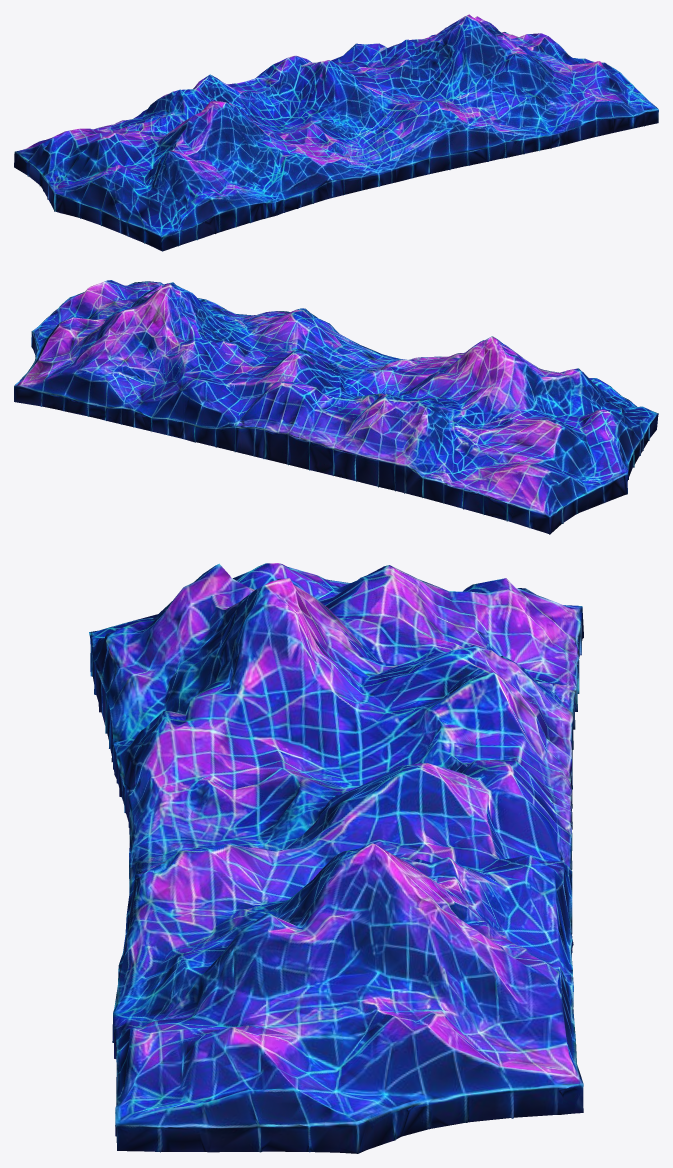
File: neon-mountain-v001.glb
The picture shows the model from 3 angles, top to bottom: view 1: azimuth 30°, elevation 25°; view 2: azimuth 150°, elevation 25°; view 3: azimuth 270°, elevation 25°; orthographic projection. The views are drawn at different scales.
Visible parts, largest first — view 1: tripo_node_f04cb174-7782-44b2-b7fd-3da2b9cd137e; view 2: tripo_node_f04cb174-7782-44b2-b7fd-3da2b9cd137e; view 3: tripo_node_f04cb174-7782-44b2-b7fd-3da2b9cd137e.
Part boxes in pixels (<box>): tripo_node_f04cb174-7782-44b2-b7fd-3da2b9cd137e: <box>14,14,658,251</box>; tripo_node_f04cb174-7782-44b2-b7fd-3da2b9cd137e: <box>14,280,658,534</box>; tripo_node_f04cb174-7782-44b2-b7fd-3da2b9cd137e: <box>89,563,583,1153</box>.
Size of the model in its own units: 0.9795 by 0.1585 by 0.3843.
Materials: 1 (1 with a texture image).
